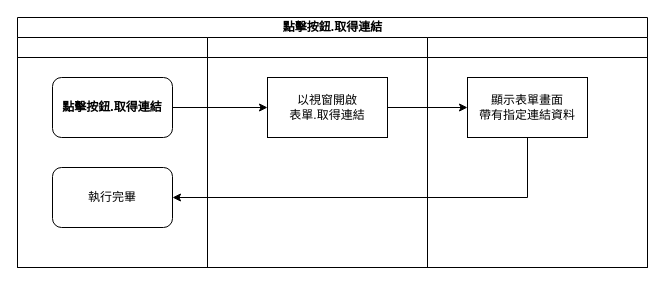
Some shapes in this 665 by 285 pixel diagram are drawn without their labels. The shapes that lost their labels are listed below. From the top down, each one's box as (x1, y1, x2, y2) in pixels, then its label:
(16, 36, 208, 268): 企業管理者 / 系統管理者
(206, 36, 428, 268): 表單.角色對應選單設定
(426, 36, 648, 268): 表單.取得連結
